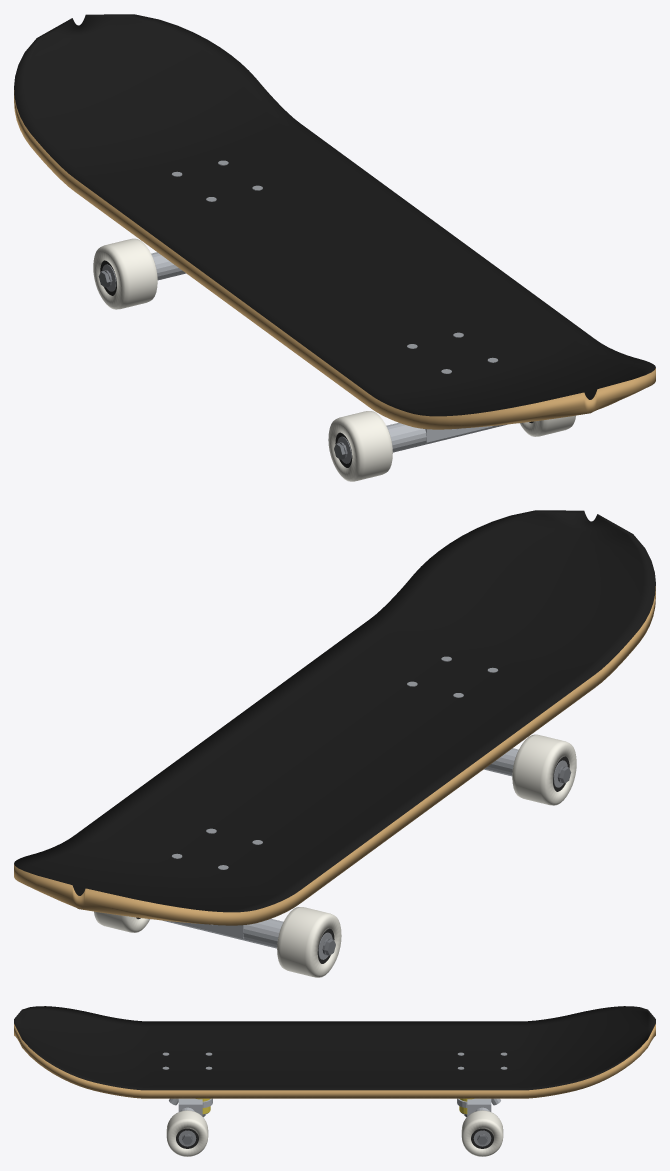
Rendered from skateboard-realiste.glb.
3 renders of one model, top to bottom at view 1: azimuth 30°, elevation 25°; view 2: azimuth 150°, elevation 25°; view 3: azimuth 270°, elevation 25°, orthographic. The views are drawn at different scales.
Visible parts, largest first — view 1: skateboard-realiste; view 2: skateboard-realiste; view 3: skateboard-realiste.
Boxes of the visible parts, left/top/right/bottom form: skateboard-realiste: left=14, top=14, right=655, bottom=481; skateboard-realiste: left=14, top=510, right=655, bottom=977; skateboard-realiste: left=14, top=1006, right=655, bottom=1156.
Size of the model in its own units: 0.208 by 0.1425 by 0.805.
